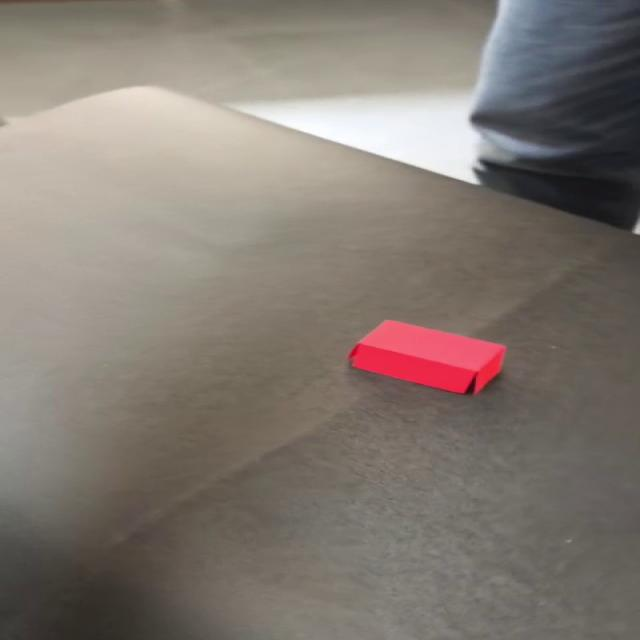red block: (346, 318, 506, 395)
